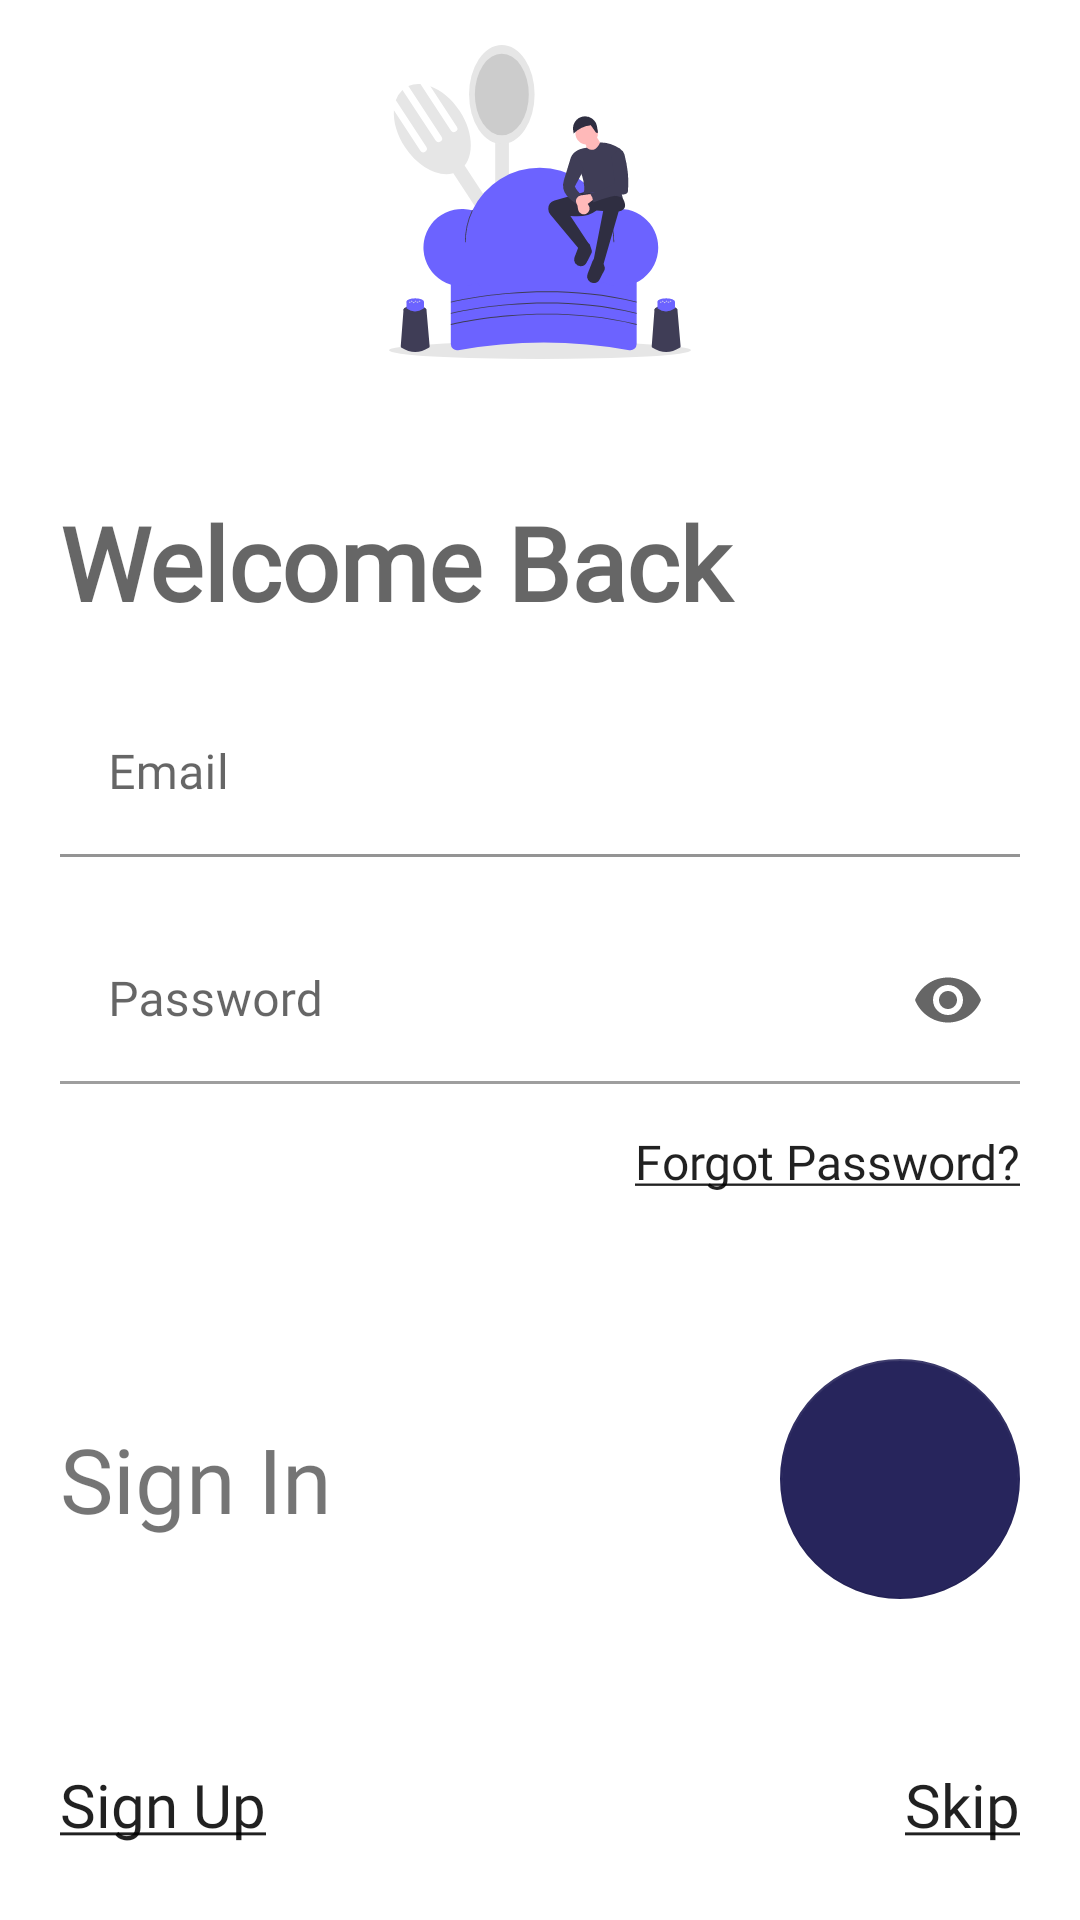

Where icons sit on this 1080w x 1920h app screen, as bbox(x1, y1, x2, y2):
cook: bbox(390, 45, 690, 359)
